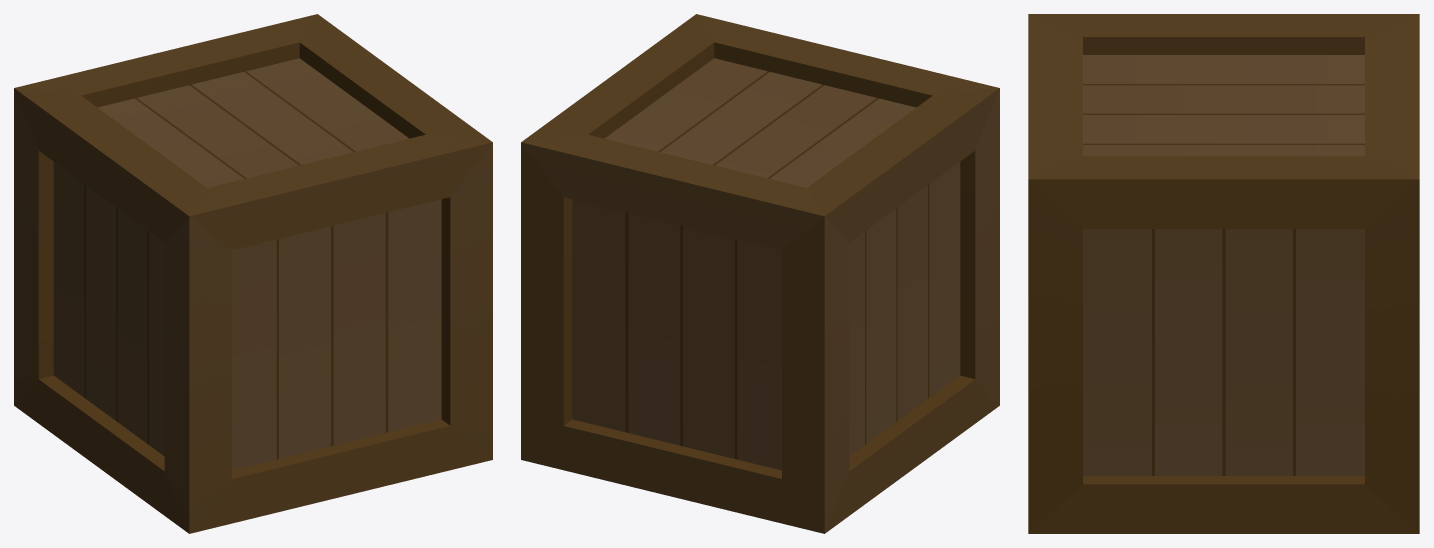
The model's file is Crate2.fbx.
3 views of the same model, side by side, from view 1: azimuth 30°, elevation 25°; view 2: azimuth 150°, elevation 25°; view 3: azimuth 270°, elevation 25° (orthographic). The views are drawn at different scales.
Visible parts, largest first — view 1: Crate2; view 2: Crate2; view 3: Crate2.
Boxes of the visible parts, x1,y1,x2,y2 form: Crate2: (14,14,492,533); Crate2: (521,14,999,533); Crate2: (1028,14,1419,533).
Size of the model in its own units: 80 by 80 by 80.
